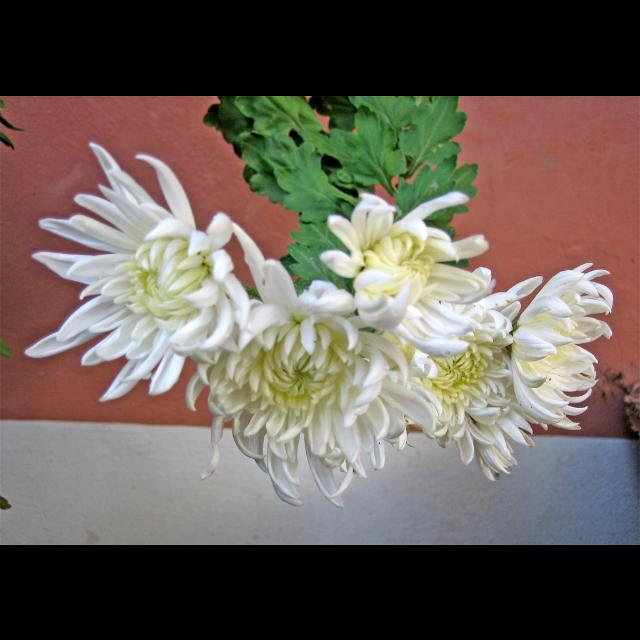Flower: (186, 218, 440, 508), (24, 144, 226, 392), (314, 192, 508, 372), (420, 272, 540, 490), (508, 262, 614, 422)
